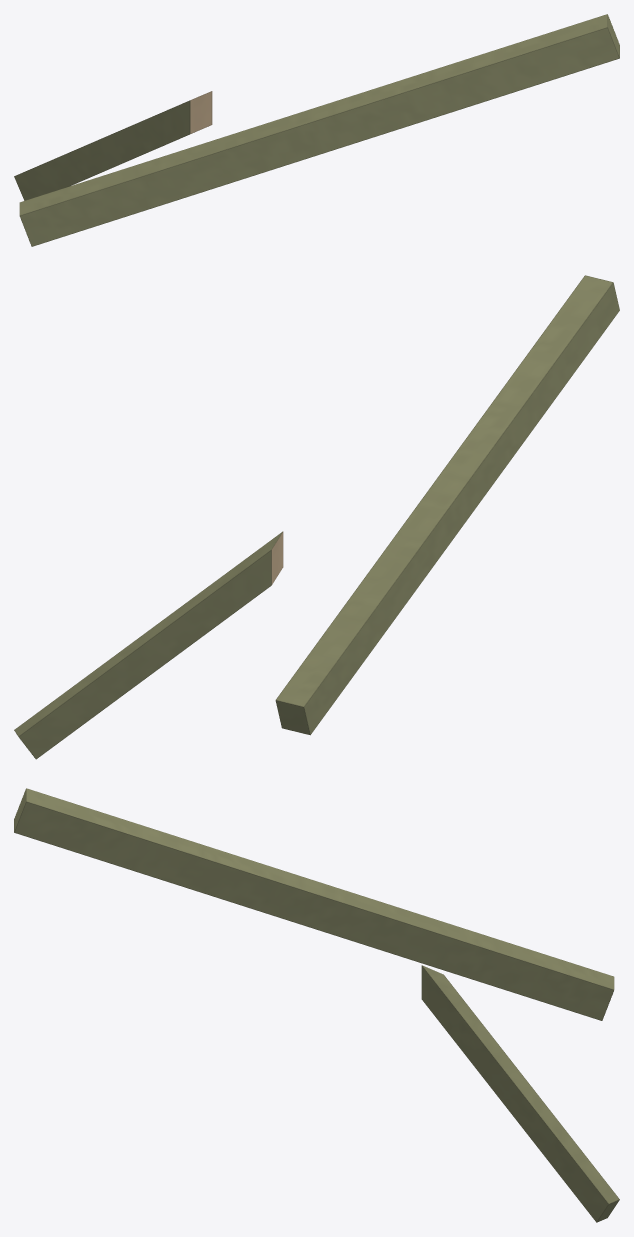
File: rafter-at-hip.glb
The picture shows the model from 3 angles, top to bottom: view 1: azimuth 90°, elevation 25°; view 2: azimuth 150°, elevation 25°; view 3: azimuth 270°, elevation 25°; orthographic projection. The views are drawn at different scales.
Parts seen in each view (by area): view 1: part-a, part-b; view 2: part-a, part-b; view 3: part-a, part-b.
Part boxes in pixels (x1,y1,x2,y2): part-a: [19, 14, 619, 246]; part-b: [14, 91, 212, 200]; part-a: [275, 275, 619, 735]; part-b: [14, 531, 283, 759]; part-a: [14, 788, 614, 1020]; part-b: [421, 965, 619, 1222].
Bounding box in the file's own units: 0.9278 × 0.9681 × 1.75.
